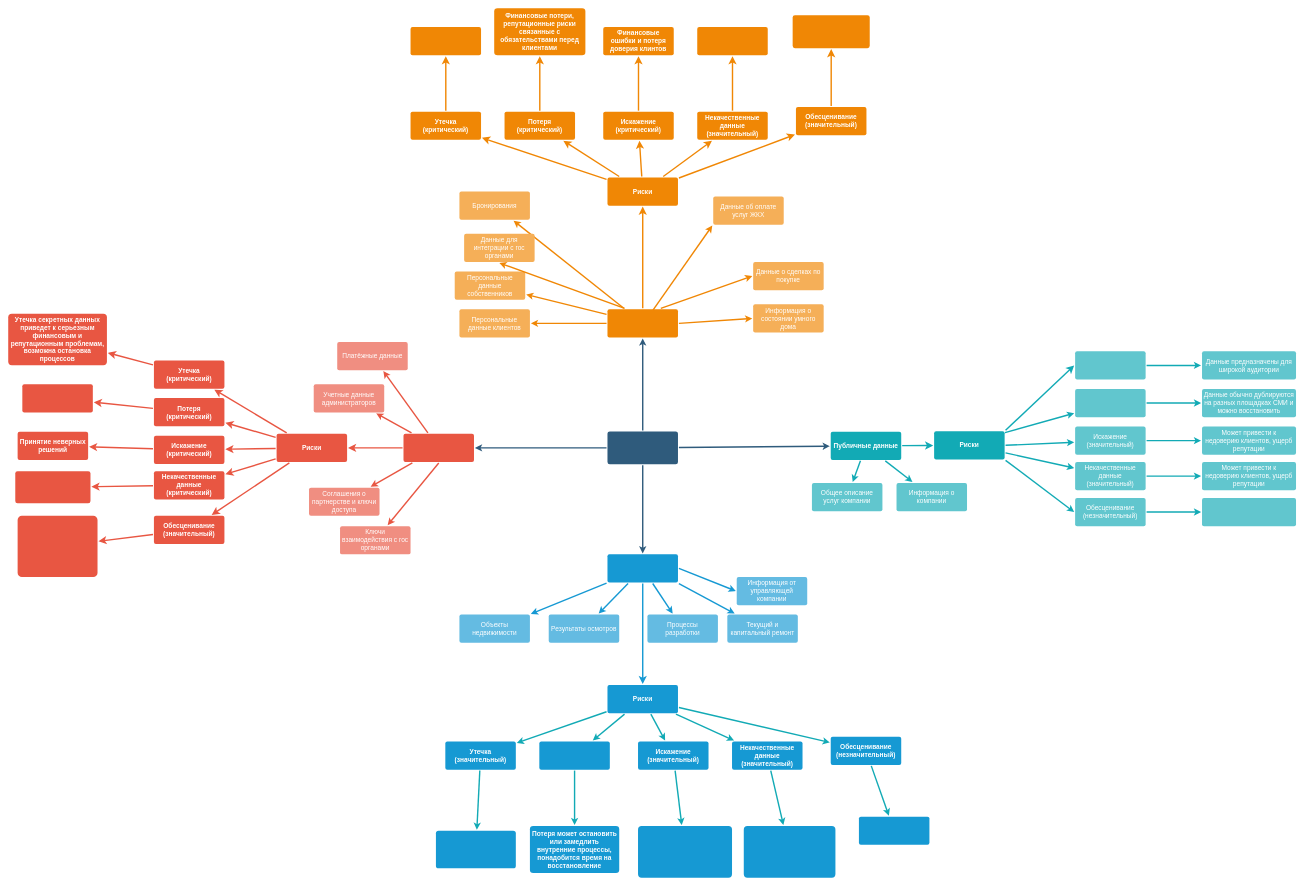
The diagram is 1304 pixels wide and 885 high, and some of its shapes have lost their labels. Each missing label, with the centre of its shape:
Безопасность данных: the point at 642,447
Внутренние данные: the point at 642,568
Данные имеют ценность только внутри компании: the point at 894,830
Затруднение в работе процессов, время на актуализацию: the point at 831,31
Информация может попасть в руки конкурентов, может снизить прибыль: the point at 476,849
Искажение может привести к сбоям в процессах, потребуется время на корректировки: the point at 685,851
Конфиденциальные данные: the point at 642,323
Невозможность выполнения обязательств: the point at 57,398
Некачественные данные могут привести к ошибкам, неверным действиям: the point at 789,851
Обесценивание данных приведет к замедлению процессов без критических последствий: the point at 57,546
Ошибки в работе с клиентами, потеря доверия: the point at 732,41
Потеря (значительный): the point at 574,755
Потеря (незначительный): the point at 1110,403
Принятие неверных решение в том числе стратегических: the point at 52,487
Публичная информация не является критически важной и их лего обновить: the point at 1249,512
Репутационные потери, штрафы, судебные иски: the point at 445,41
Секретные данные: the point at 438,448
Утечка (незначительный): the point at 1110,365
